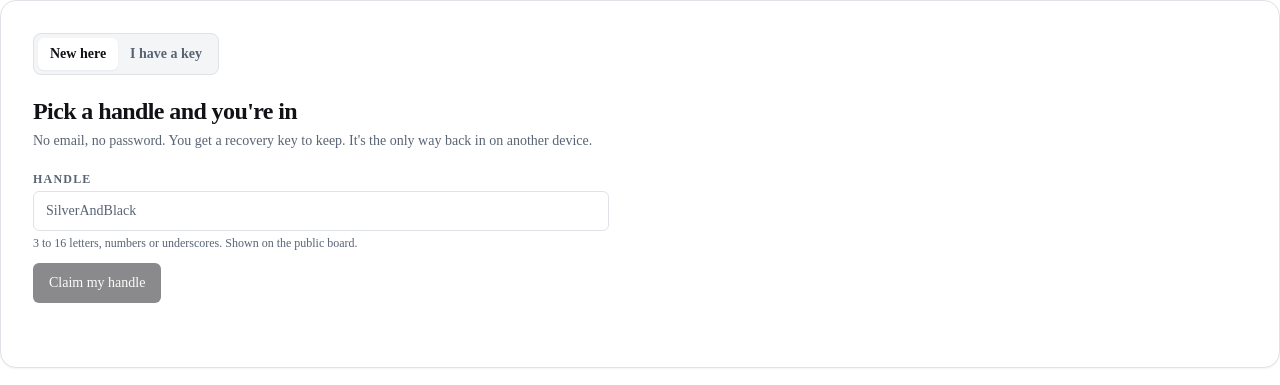
Test: <LeagueEntry /> signed out › does not track a join that failed
This screenshot has width=1280, height=385.
Type "Taken" into the field labelled "Handle".
click(321, 211); type("Taken")  # box x1=33 y1=191 x2=609 y2=231
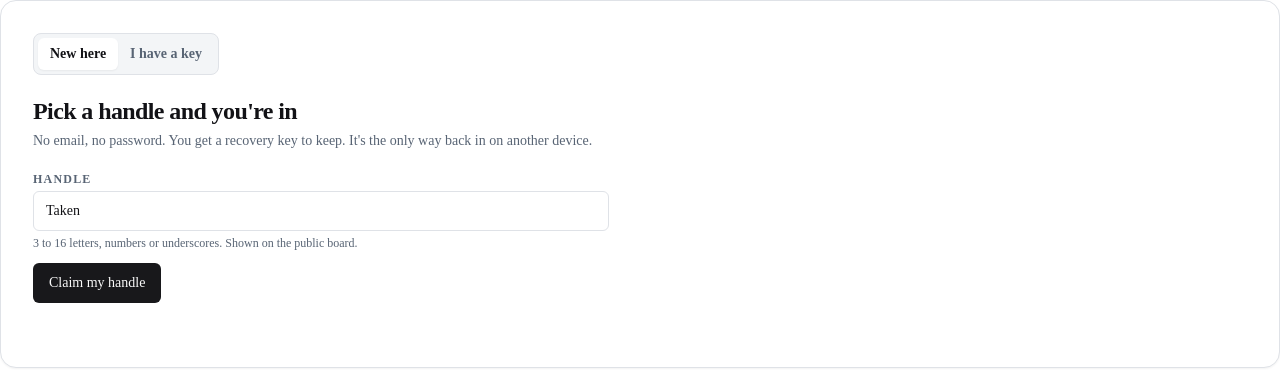
Click the button "Claim my handle".
click(97, 283)  # box x1=33 y1=263 x2=161 y2=303
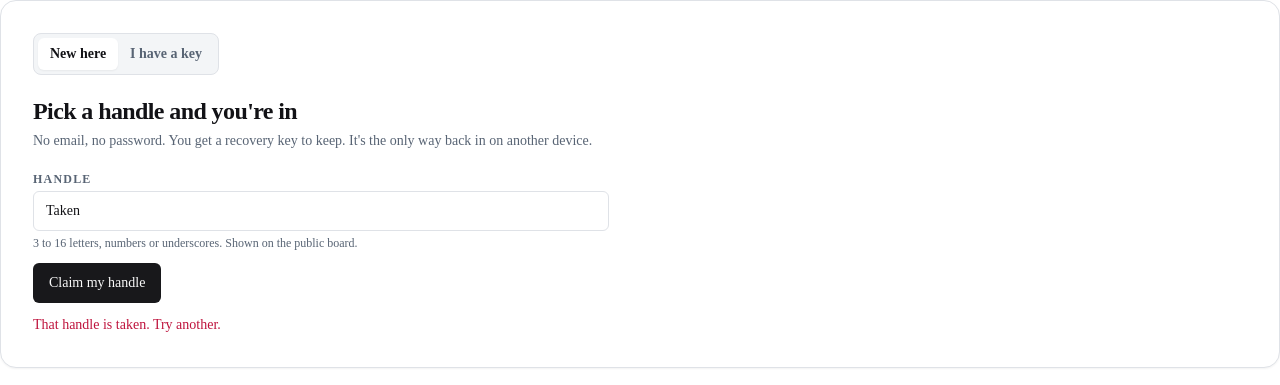
Expected: the text "That handle is taken. Try another." is shown, x1=33 y1=317 x2=221 y2=332
